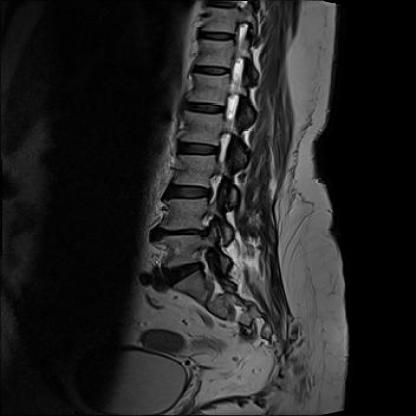Disc Bulgerotation: (157, 257, 217, 288)
Disc Herniationrotation: (143, 218, 217, 248)
